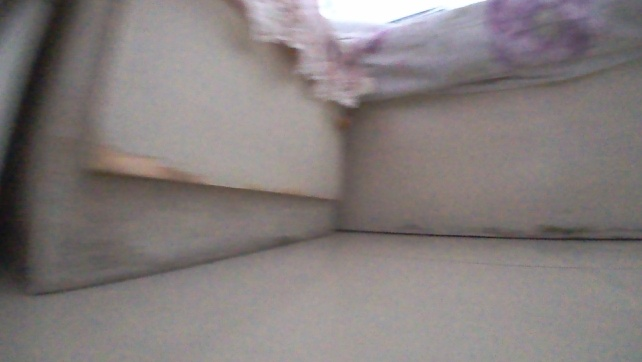bed1: (335, 0, 641, 243)
cabinet: (7, 0, 350, 301)
